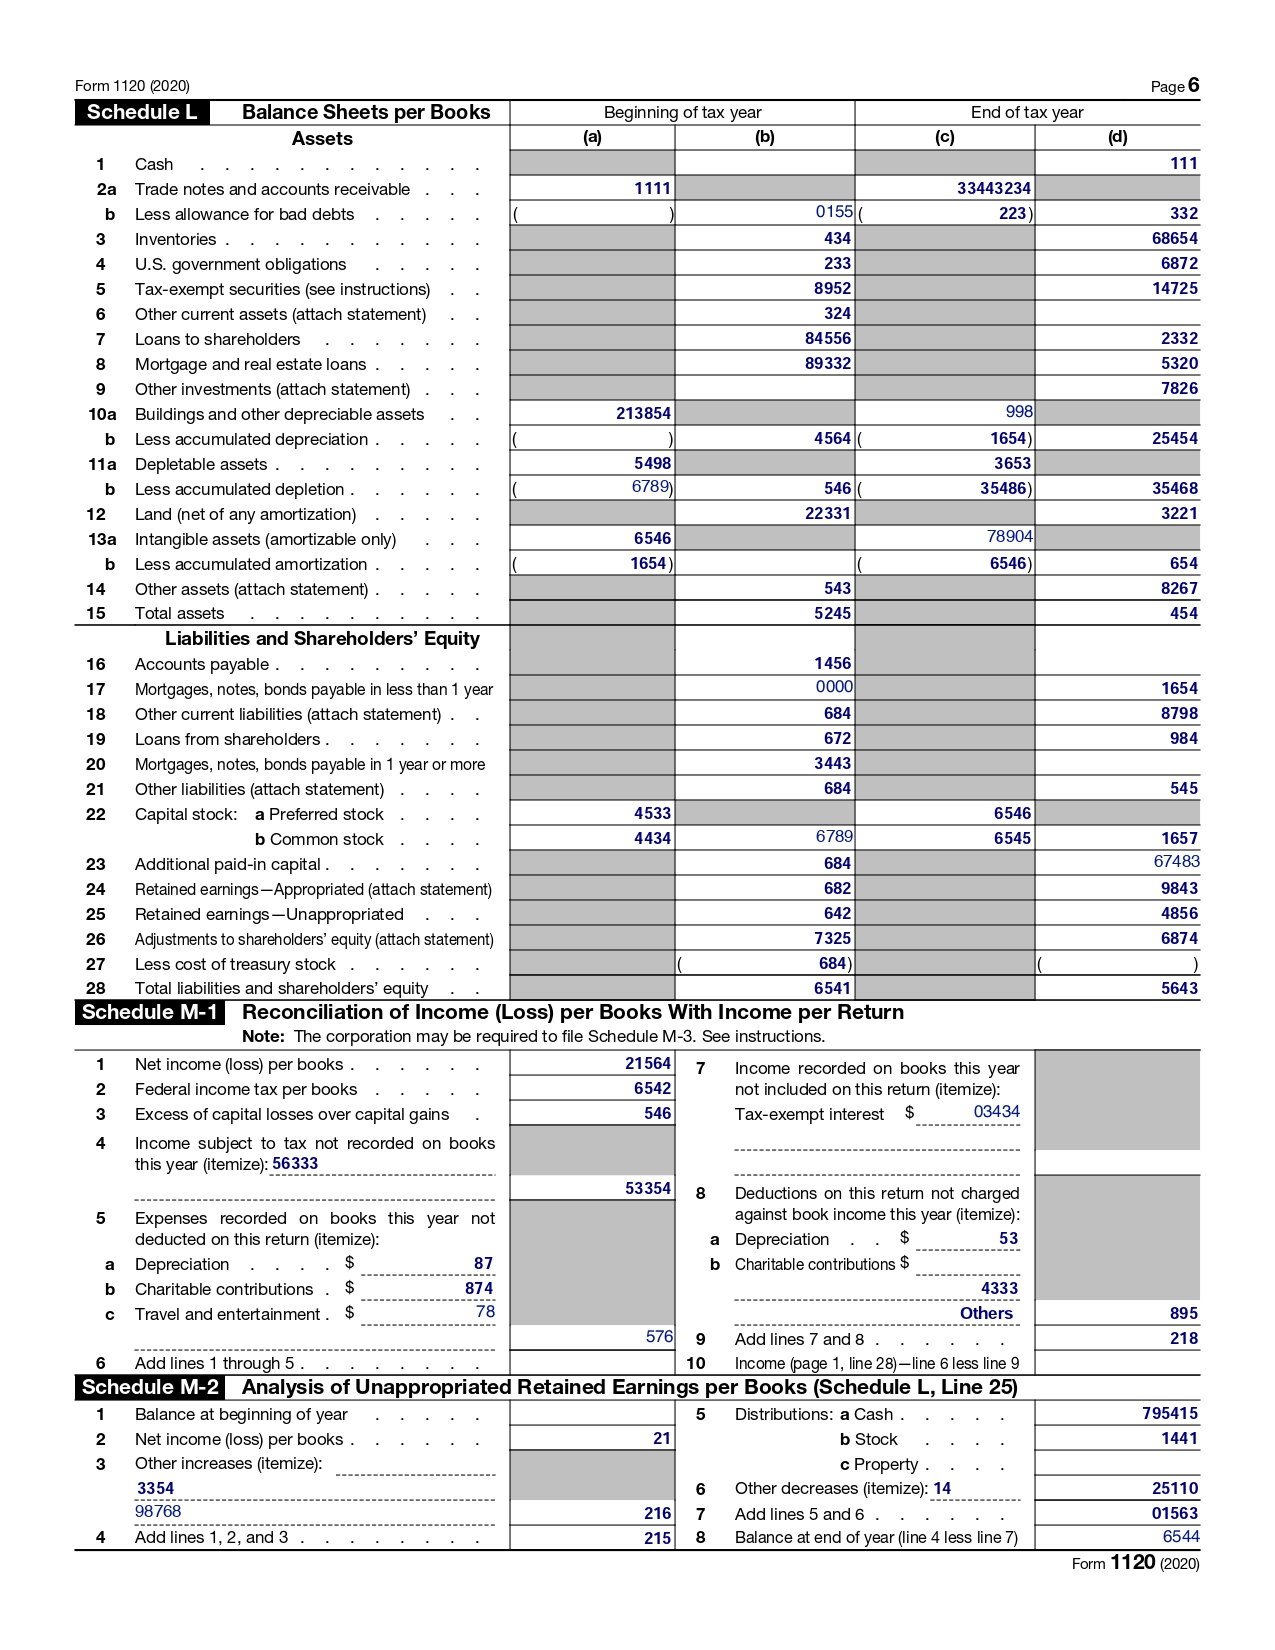table: (66, 94, 1216, 1003), (74, 1045, 682, 1375), (679, 1047, 1216, 1371), (78, 1405, 680, 1552), (684, 1401, 1211, 1550)
